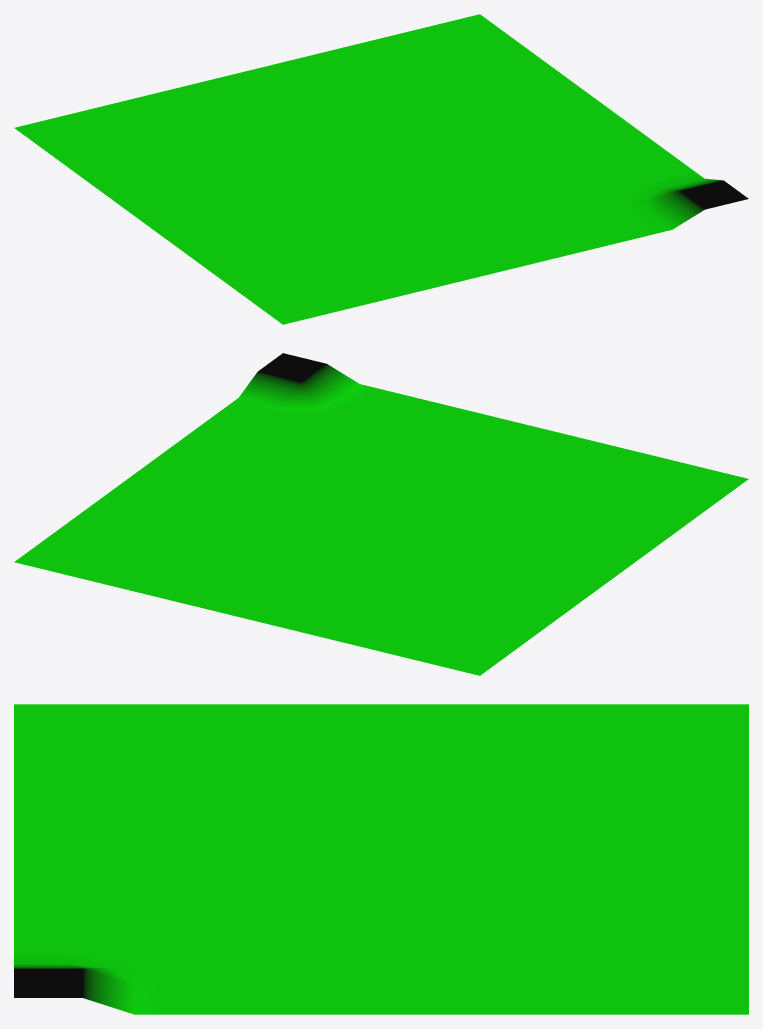
File: SM_Ground_8m_SquareCornerOutside.FBX
3 renders of one model, top to bottom at view 1: azimuth 30°, elevation 25°; view 2: azimuth 150°, elevation 25°; view 3: azimuth 270°, elevation 25°, orthographic. The views are drawn at different scales.
Parts seen in each view (by area): view 1: SM_Ground_8m_SquareCornerOutside; view 2: SM_Ground_8m_SquareCornerOutside; view 3: SM_Ground_8m_SquareCornerOutside.
Part boxes in pixels (x1,y1,x2,y2): SM_Ground_8m_SquareCornerOutside: (14, 14, 748, 324); SM_Ground_8m_SquareCornerOutside: (14, 353, 748, 675); SM_Ground_8m_SquareCornerOutside: (14, 704, 748, 1014).
Bounding box in the file's own units: 800 × 800 × 20.
